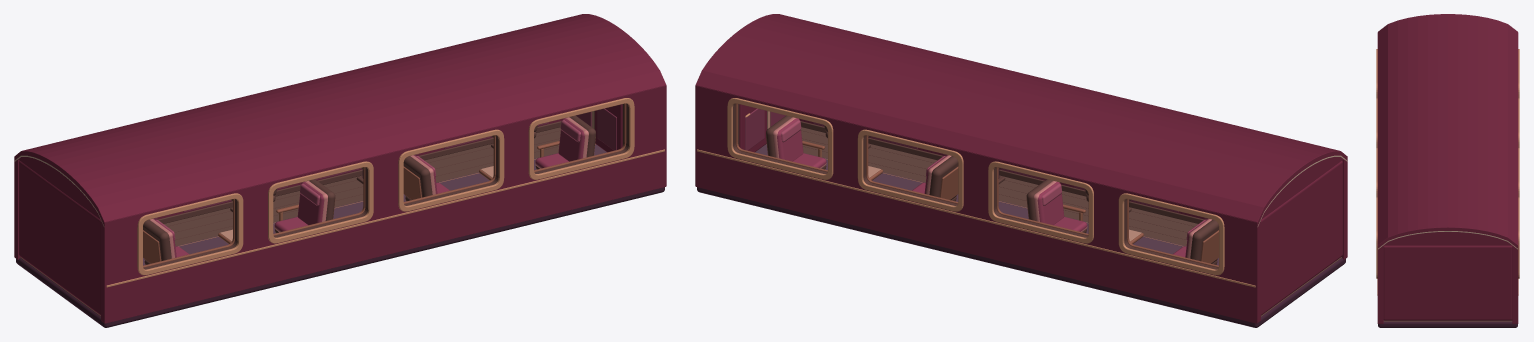
Rendered from cabin_interior.glb.
3 renders of one model, left to right at view 1: azimuth 30°, elevation 25°; view 2: azimuth 150°, elevation 25°; view 3: azimuth 270°, elevation 25°, orthographic. The views are drawn at different scales.
Parts seen in each view (by area): view 1: Burgundy curved roof, Perforated burgundy wall.001, Bulkhead.001, Matte floor surface, Floor structure, Outer rose gold frame.004, Outer rose gold frame.006, Outer rose gold frame.005, Outer rose gold frame.007, Wood skirting, Exterior rose gold stripe.001, Aisle runner (+9 smaller); view 2: Burgundy curved roof, Perforated burgundy wall, Bulkhead.001, Matte floor surface, Floor structure, Outer rose gold frame, Outer rose gold frame.002, Outer rose gold frame.001, Outer rose gold frame.003, Wood skirting.001, Exterior rose gold stripe, Aisle runner (+9 smaller); view 3: Burgundy curved roof, Bulkhead, Curved end cap, Floor structure, Perforated burgundy wall, Perforated burgundy wall.001, Matte floor surface, Warm curved ceiling lining, Outer rose gold frame.003, Outer rose gold frame.007.
Part boxes in pixels (bbox=[...]): Burgundy curved roof: bbox=[14, 14, 666, 225]; Perforated burgundy wall.001: bbox=[101, 85, 666, 323]; Bulkhead.001: bbox=[19, 161, 100, 315]; Matte floor surface: bbox=[20, 127, 560, 316]; Floor structure: bbox=[16, 187, 664, 327]; Outer rose gold frame.004: bbox=[137, 193, 243, 275]; Outer rose gold frame.006: bbox=[398, 129, 504, 211]; Outer rose gold frame.005: bbox=[268, 161, 373, 243]; Outer rose gold frame.007: bbox=[528, 98, 634, 179]; Wood skirting: bbox=[157, 121, 561, 223]; Exterior rose gold stripe.001: bbox=[106, 149, 664, 287]; Aisle runner: bbox=[143, 144, 606, 265]; Burgundy curved roof: bbox=[695, 14, 1347, 225]; Perforated burgundy wall: bbox=[695, 85, 1260, 323]; Bulkhead.001: bbox=[1261, 160, 1342, 315]; Matte floor surface: bbox=[801, 127, 1341, 316]; Floor structure: bbox=[697, 187, 1345, 327]; Outer rose gold frame: bbox=[1118, 193, 1224, 275]; Outer rose gold frame.002: bbox=[857, 129, 963, 211]; Outer rose gold frame.001: bbox=[988, 161, 1093, 243]; Outer rose gold frame.003: bbox=[727, 98, 833, 179]; Wood skirting.001: bbox=[800, 121, 1204, 223]; Exterior rose gold stripe: bbox=[697, 149, 1255, 287]; Aisle runner: bbox=[755, 144, 1218, 265]; Burgundy curved roof: bbox=[1378, 14, 1517, 248]; Bulkhead: bbox=[1383, 245, 1512, 320]; Curved end cap: bbox=[1383, 232, 1512, 245]; Floor structure: bbox=[1378, 321, 1517, 327]; Perforated burgundy wall: bbox=[1512, 32, 1518, 323]; Perforated burgundy wall.001: bbox=[1377, 32, 1383, 323]; Matte floor surface: bbox=[1383, 320, 1512, 321]; Warm curved ceiling lining: bbox=[1378, 231, 1517, 249]; Outer rose gold frame.003: bbox=[1518, 197, 1519, 278]; Outer rose gold frame.007: bbox=[1376, 197, 1377, 278].
Bounding box in the file's own units: 10.09 × 2.24 × 2.87.
